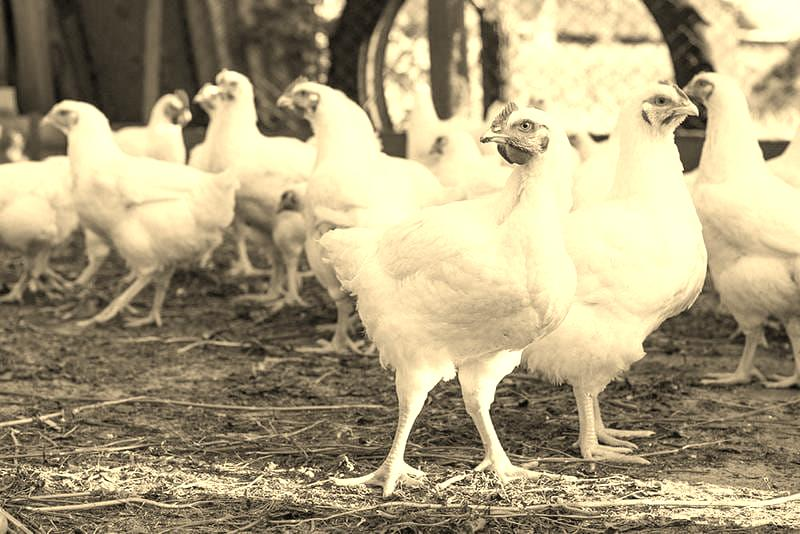Healthy: (314, 92, 574, 505)
